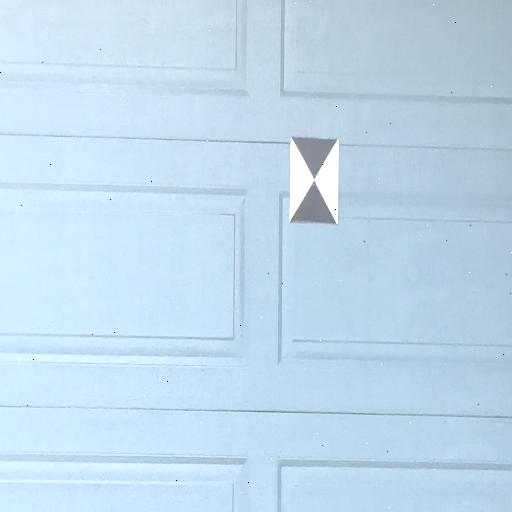target: (290, 137, 338, 223)
